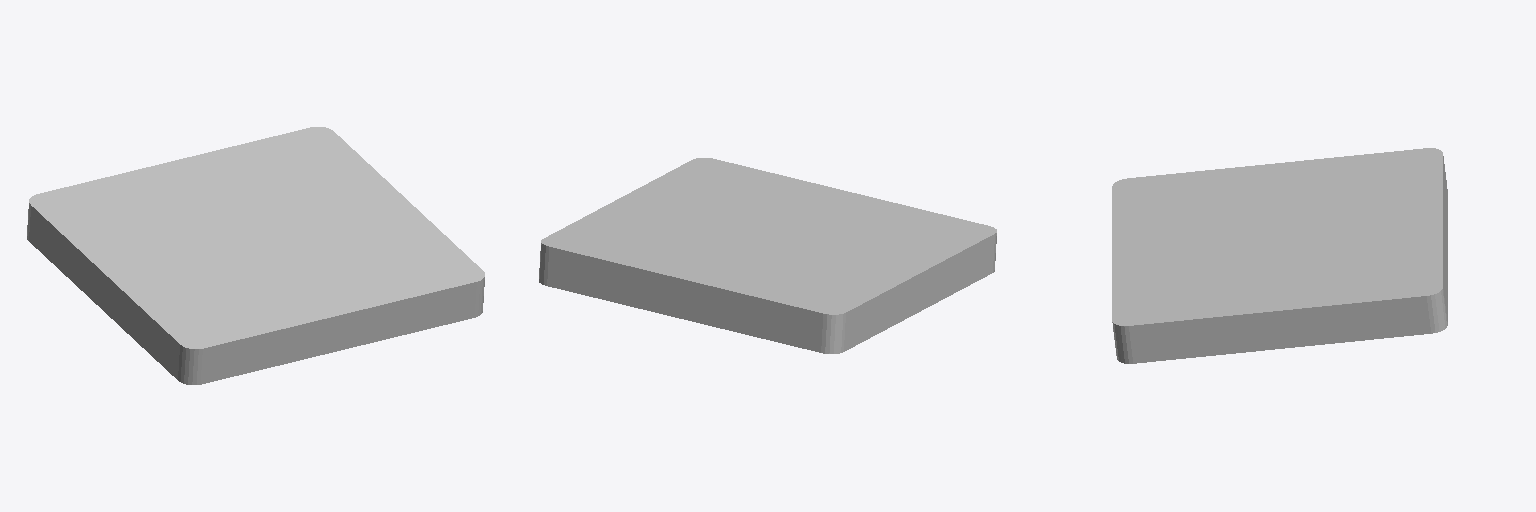
Rendered from original-66.obj.
The picture shows the model from 3 angles: view 1: azimuth 30°, elevation 25°; view 2: azimuth 150°, elevation 25°; view 3: azimuth 270°, elevation 25°; orthographic projection.
Visible parts, largest first — view 1: mesh65/mesh65-geometry#mesh65-geometry; view 2: mesh65/mesh65-geometry#mesh65-geometry; view 3: mesh65/mesh65-geometry#mesh65-geometry.
Part boxes in pixels (x1,y1,x2,y2): mesh65/mesh65-geometry#mesh65-geometry: (27,127,484,384); mesh65/mesh65-geometry#mesh65-geometry: (539,158,996,353); mesh65/mesh65-geometry#mesh65-geometry: (1112,148,1447,363).
Bounding box in the file's own units: 0.1061 × 0.0238 × 0.1019.